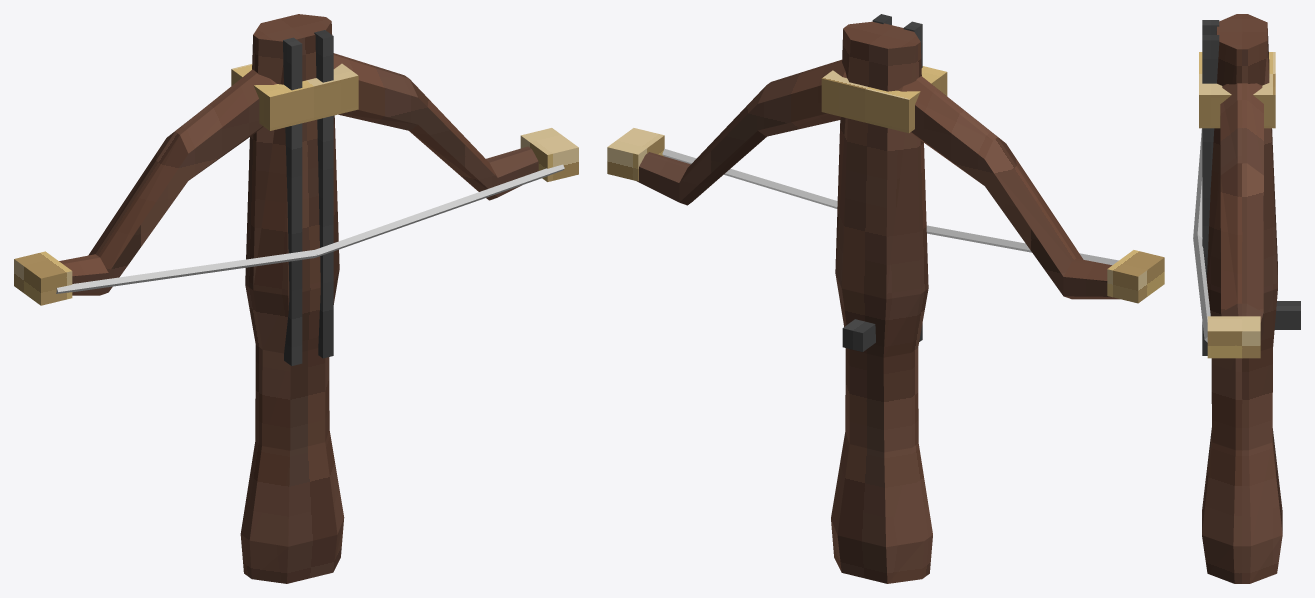
The model's file is cutout.obj.
3 views of the same model, side by side, from view 1: azimuth 30°, elevation 25°; view 2: azimuth 150°, elevation 25°; view 3: azimuth 270°, elevation 25° (orthographic).
Bounding box in the file's own units: 1.24 × 1.19 × 0.2184.
